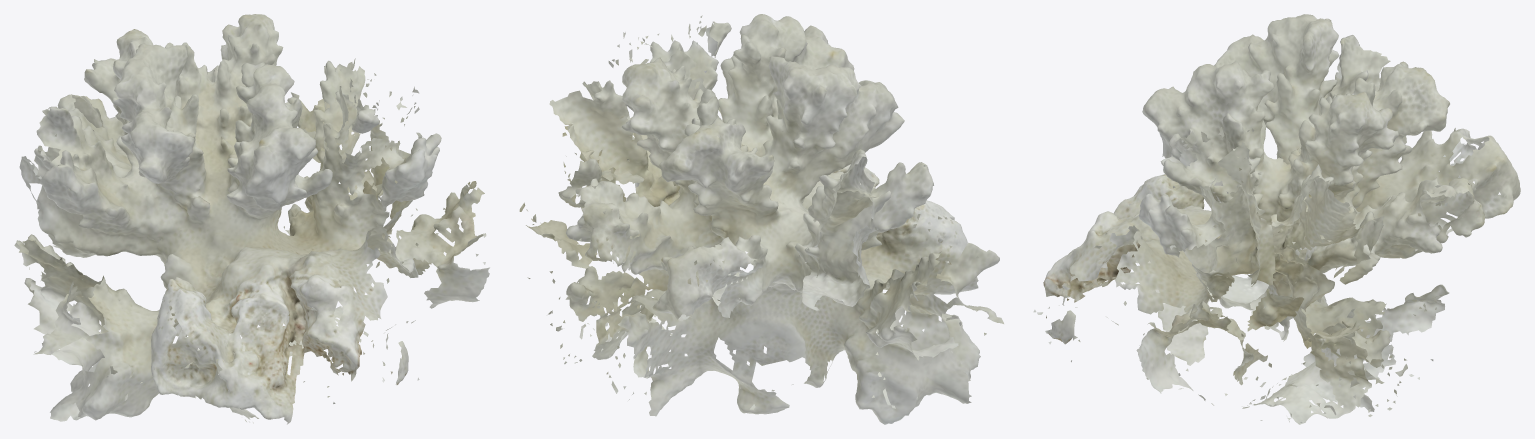
The model's file is coral2.glb.
The picture shows the model from 3 angles, left to right: view 1: azimuth 30°, elevation 25°; view 2: azimuth 150°, elevation 25°; view 3: azimuth 270°, elevation 25°; orthographic projection. The views are drawn at different scales.
Parts seen in each view (by area): view 1: Object_3; view 2: Object_3; view 3: Object_3.
Part boxes in pixels (x1,y1,x2,y2): Object_3: (14, 14, 489, 424); Object_3: (519, 14, 1003, 424); Object_3: (1033, 14, 1520, 424).
Bounding box in the file's own units: 3.4 × 2.71 × 3.38.
1 material, 1 textured.
